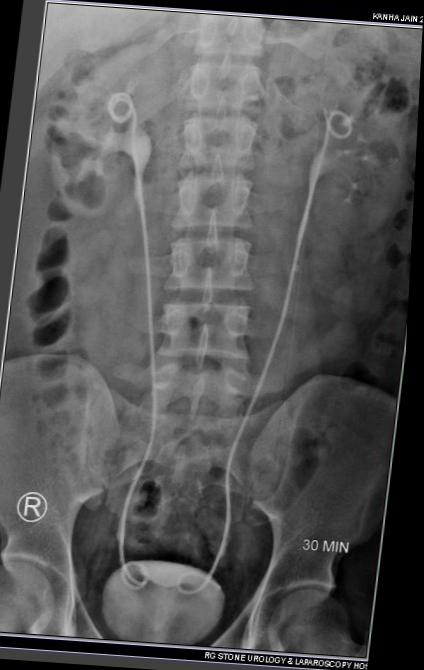bladder: (74, 565, 225, 667)
left kidney: (287, 48, 421, 246)
right kidney: (16, 41, 147, 243)
vertebrae: (163, 95, 256, 169)
